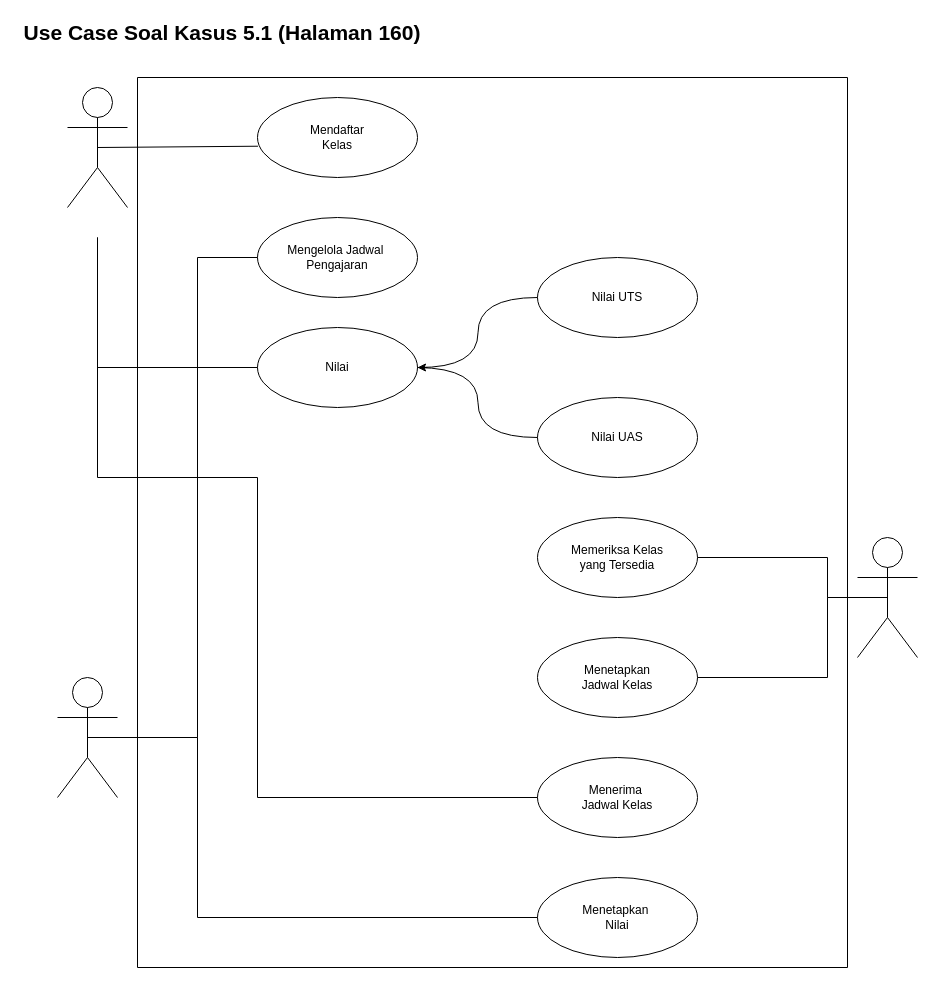
The diagram is 935 pixels wide and 985 high, and some of its shapes have lost their labels. Here are the shapes that lost their labels. From the top down, the centre of each, then its label:
the point at 97,147: Mahasiswa
the point at 887,597: Pegawai Akademik
the point at 87,737: Dosen
